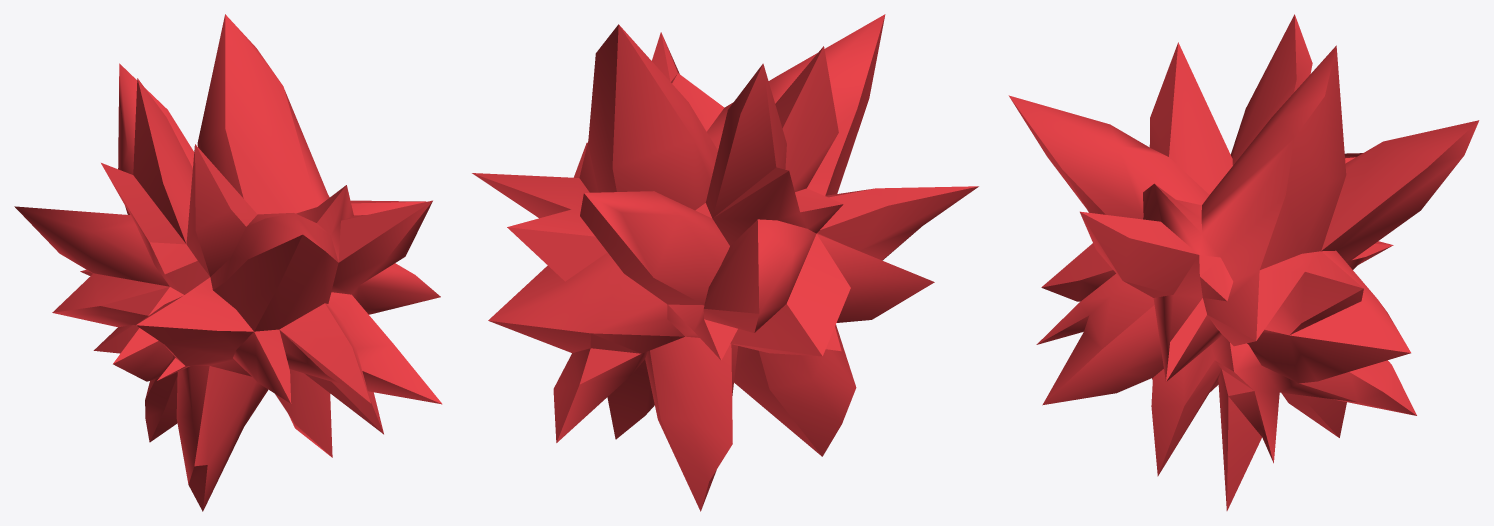
The model's file is obj_resource_mineralred.fbx.
3 renders of one model, left to right at view 1: azimuth 30°, elevation 25°; view 2: azimuth 150°, elevation 25°; view 3: azimuth 270°, elevation 25°, orthographic. The views are drawn at different scales.
Visible parts, largest first — view 1: obj_resource_mineralred_lod0; view 2: obj_resource_mineralred_lod0; view 3: obj_resource_mineralred_lod0.
Boxes of the visible parts, x1,y1,x2,y2 form: obj_resource_mineralred_lod0: (14, 14, 442, 511); obj_resource_mineralred_lod0: (472, 14, 978, 511); obj_resource_mineralred_lod0: (1008, 14, 1479, 510).
Size of the model in its own units: 1.11 by 1.2 by 1.17.
